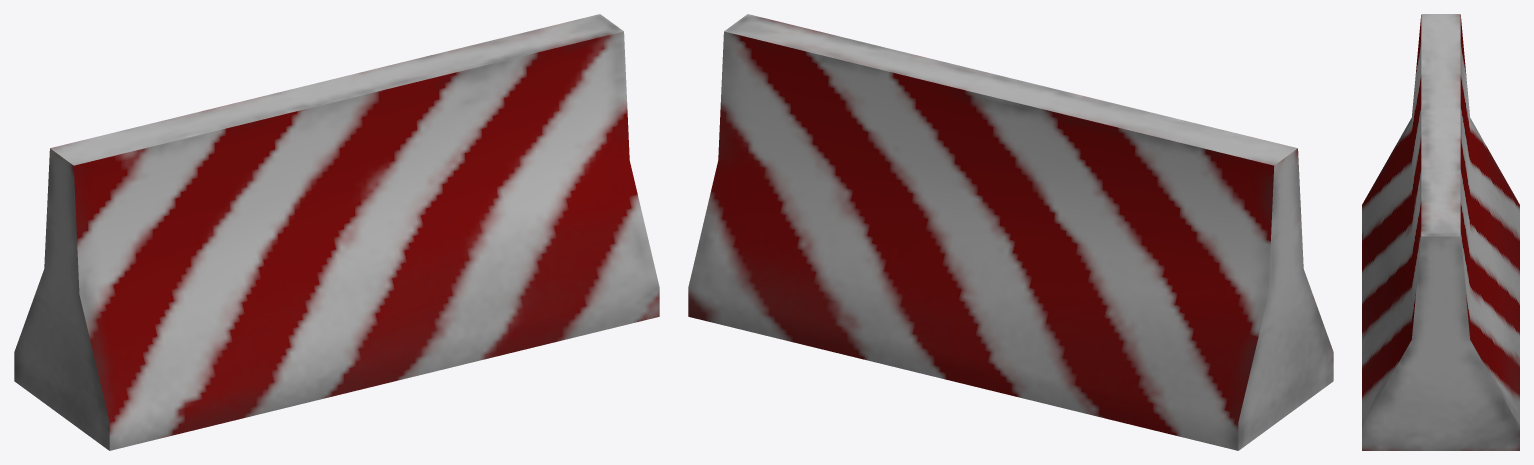
The model's file is Barrier.fbx.
The picture shows the model from 3 angles, left to right: view 1: azimuth 30°, elevation 25°; view 2: azimuth 150°, elevation 25°; view 3: azimuth 270°, elevation 25°; orthographic projection. The views are drawn at different scales.
Visible parts, largest first — view 1: Barrier; view 2: Barrier; view 3: Barrier.
Boxes of the visible parts, x1,y1,x2,y2 form: Barrier: (14,14,659,450); Barrier: (688,14,1333,450); Barrier: (1362,14,1519,450).
Size of the model in its own units: 200 by 90 by 60.
